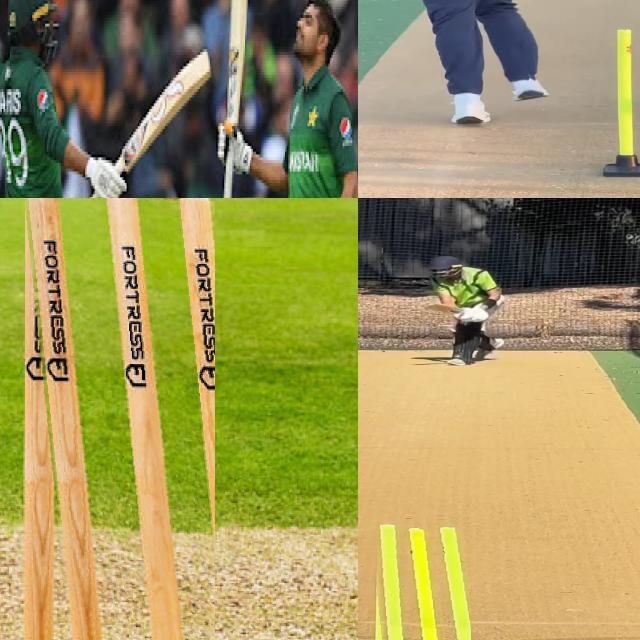Stumps: (21, 198, 215, 640), (369, 513, 470, 640), (600, 25, 640, 180)
